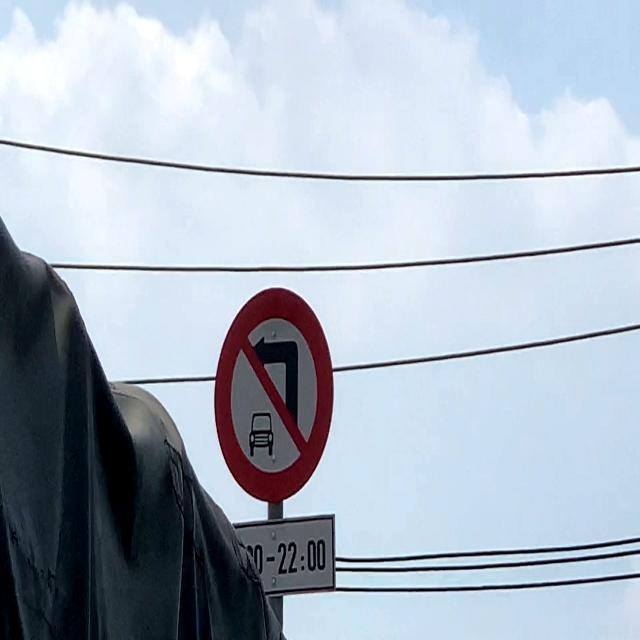123a-cam-re-trai: (212, 288, 336, 500)
